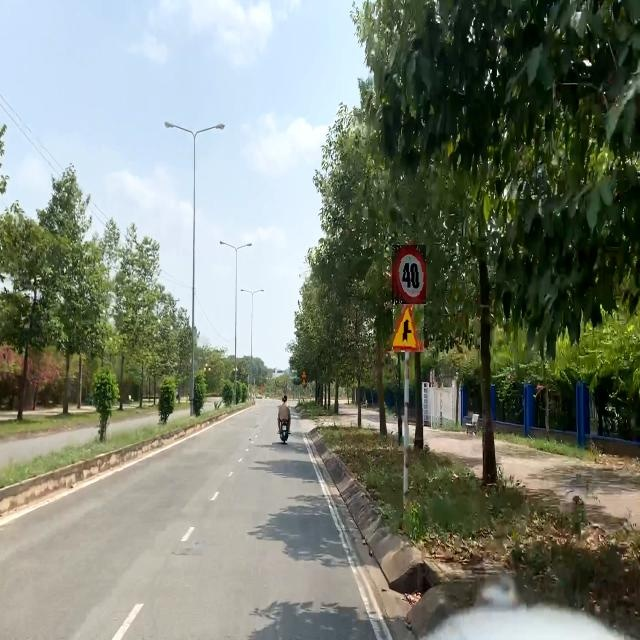bien_nguy_hiem: (392, 245, 426, 304), (393, 304, 424, 352)
